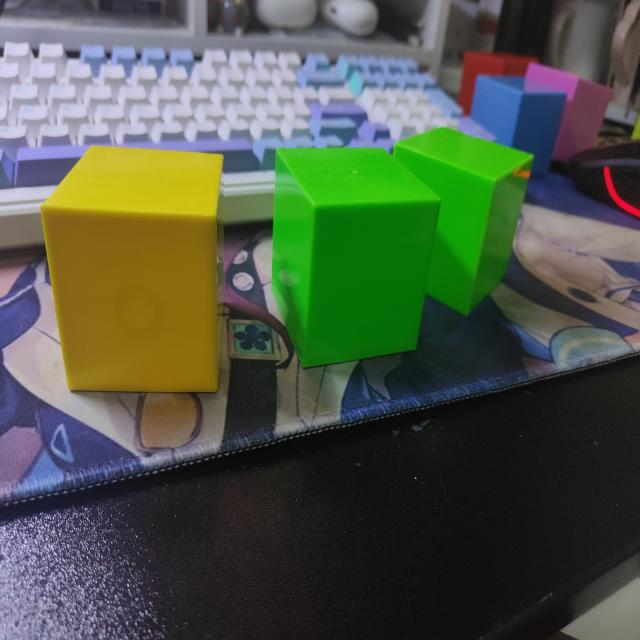green: (271, 149, 442, 370), (391, 126, 533, 318)
yellow: (39, 146, 223, 397)
